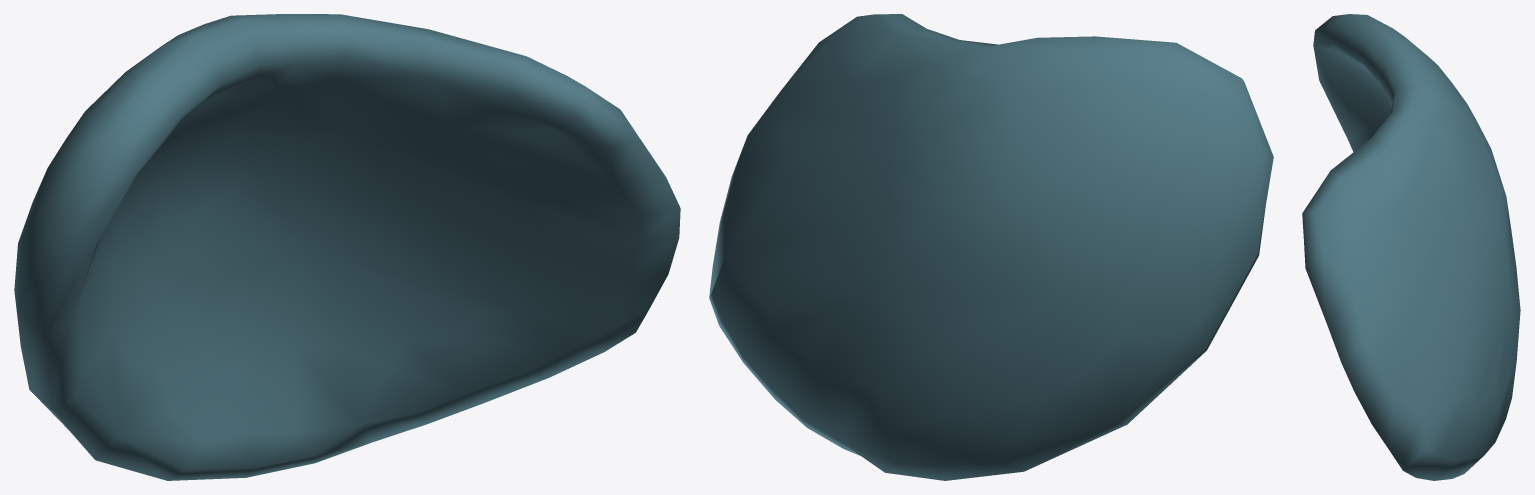
The model's file is Flexor_hallucis_brevis_lateral_sesamoid_foot_right.glb.
3 views of the same model, side by side, from view 1: azimuth 30°, elevation 25°; view 2: azimuth 150°, elevation 25°; view 3: azimuth 270°, elevation 25° (orthographic). The views are drawn at different scales.
Parts seen in each view (by area): view 1: Lat._head_of_flex._hallucis_brev._on_lat._ses._bone_of_foot.; view 2: Lat._head_of_flex._hallucis_brev._on_lat._ses._bone_of_foot.; view 3: Lat._head_of_flex._hallucis_brev._on_lat._ses._bone_of_foot..
Boxes of the visible parts, bbox=[...] form: Lat._head_of_flex._hallucis_brev._on_lat._ses._bone_of_foot.: bbox=[14, 14, 680, 480]; Lat._head_of_flex._hallucis_brev._on_lat._ses._bone_of_foot.: bbox=[709, 14, 1273, 480]; Lat._head_of_flex._hallucis_brev._on_lat._ses._bone_of_foot.: bbox=[1302, 14, 1520, 480].
Bounding box in the file's own units: 0.00516 × 0.00393 × 0.00218.
